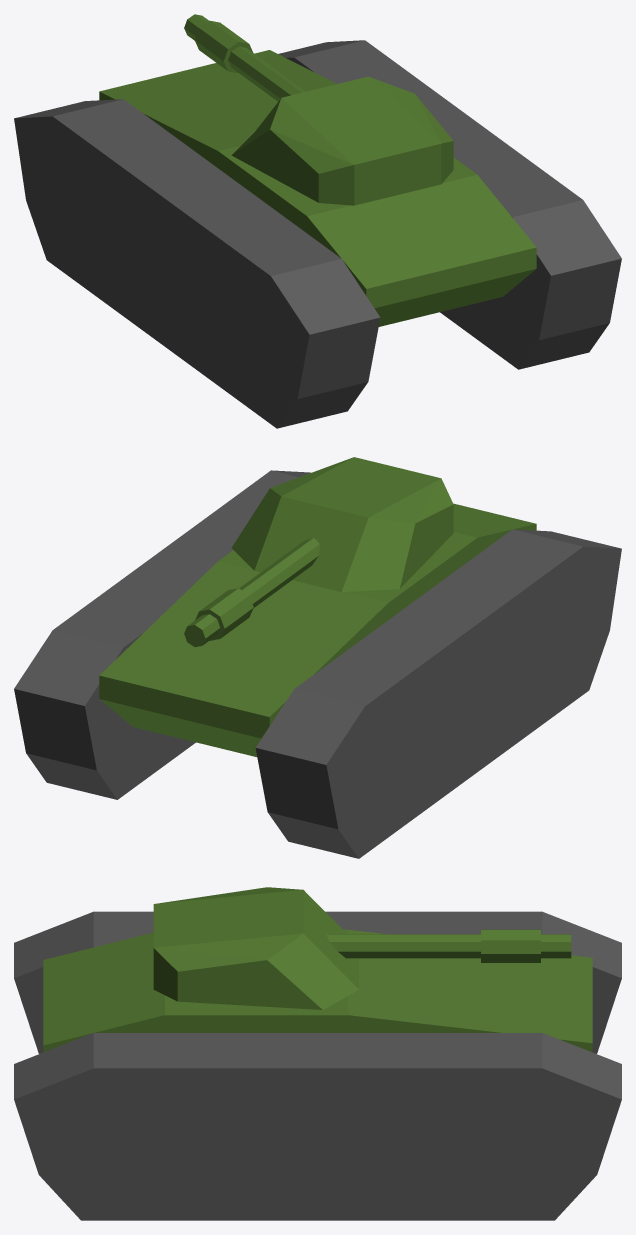
File: tank.glb
3 renders of one model, top to bottom at view 1: azimuth 30°, elevation 25°; view 2: azimuth 150°, elevation 25°; view 3: azimuth 270°, elevation 25°, orthographic. The views are drawn at different scales.
Parts seen in each view (by area): view 1: Tracks, Tank, Turret, Barrel; view 2: Tracks, Tank, Turret, Barrel; view 3: Tracks, Tank, Turret, Barrel.
Boxes of the visible parts, left/top/right/bottom form: Tracks: left=14, top=40, right=621, bottom=428; Tank: left=99, top=50, right=536, bottom=326; Turret: left=231, top=76, right=453, bottom=205; Barrel: left=184, top=14, right=305, bottom=101; Tracks: left=14, top=470, right=621, bottom=858; Tank: left=99, top=503, right=536, bottom=756; Turret: left=231, top=457, right=453, bottom=591; Barrel: left=184, top=537, right=319, bottom=647; Tracks: left=14, top=911, right=621, bottom=1220; Tank: left=43, top=929, right=592, bottom=1052; Turret: left=153, top=887, right=358, bottom=1009; Barrel: left=326, top=929, right=571, bottom=962.
Size of the model in its own units: 0.0157 by 0.0108 by 0.0257.
